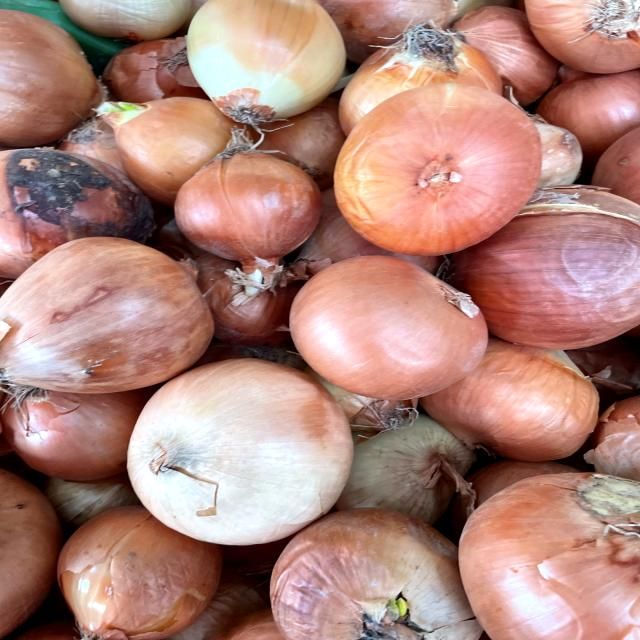onion: (112, 355, 357, 548), (320, 77, 568, 253), (279, 248, 505, 403), (155, 118, 337, 289), (49, 502, 235, 640), (176, 0, 352, 136)
